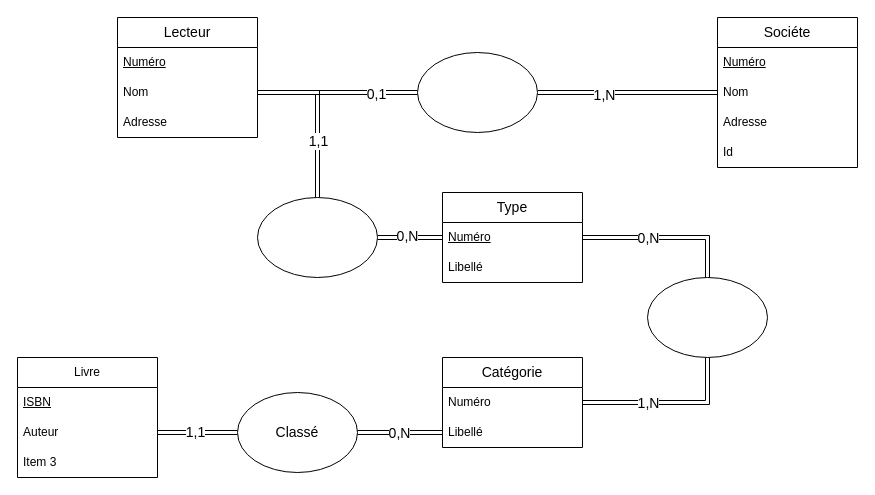
Image size: 875x495. Some labels were removed from this diagram. The centre of each missing label's shape, as x and y in pixels:
Acceder: the point at 707,317
Appartient: the point at 317,237
Etre membre: the point at 477,92
